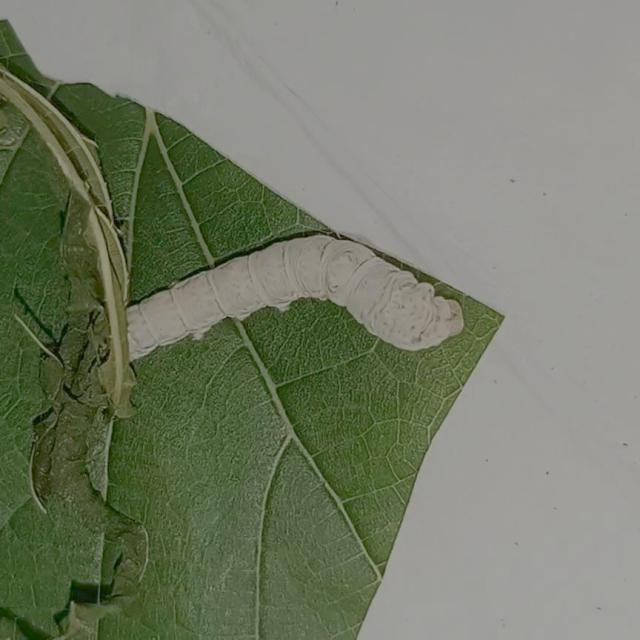Healthy: (113, 215, 470, 386)
